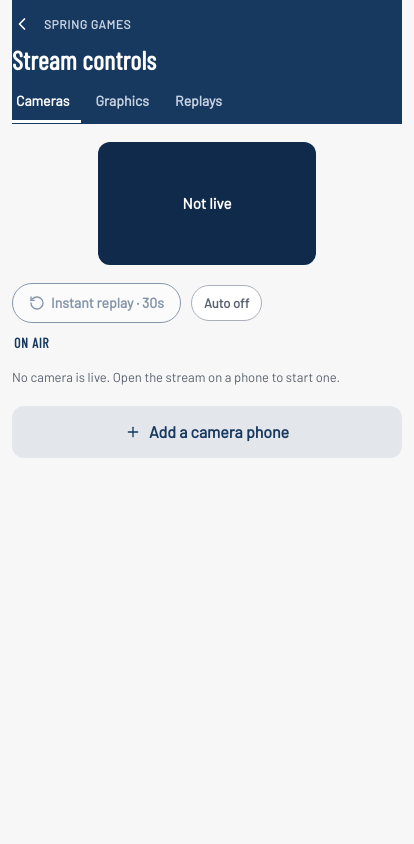
Test: Camera tab › passes on the reason the API gives, such as a finished competition
The image size is (414, 844).
What coordinates should you click on to do the following:
click the button "Add a camera phone"
I would click on:
 (207, 432)
Its box is 12,406 -> 402,458.
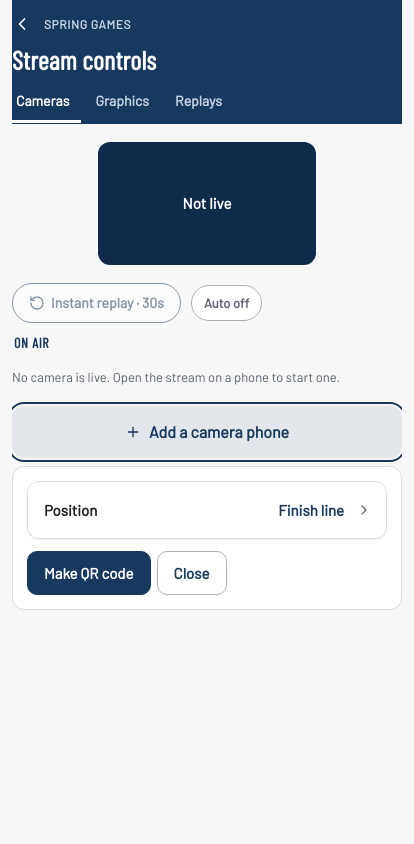
What coordinates should you click on to do the following:
click the button "Make QR code"
I would click on:
 (89, 573)
Its box is 27,551 -> 151,595.
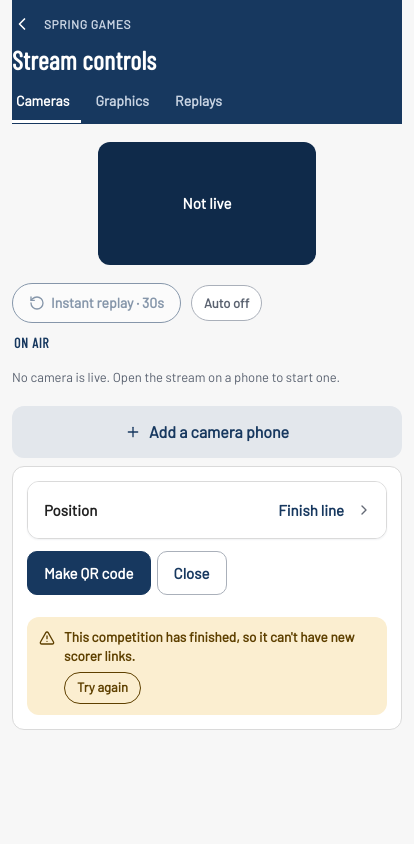
Now the message "This competition has finished, so it can't have new scorer links. Try again" is shown, box 27,617 -> 387,715
